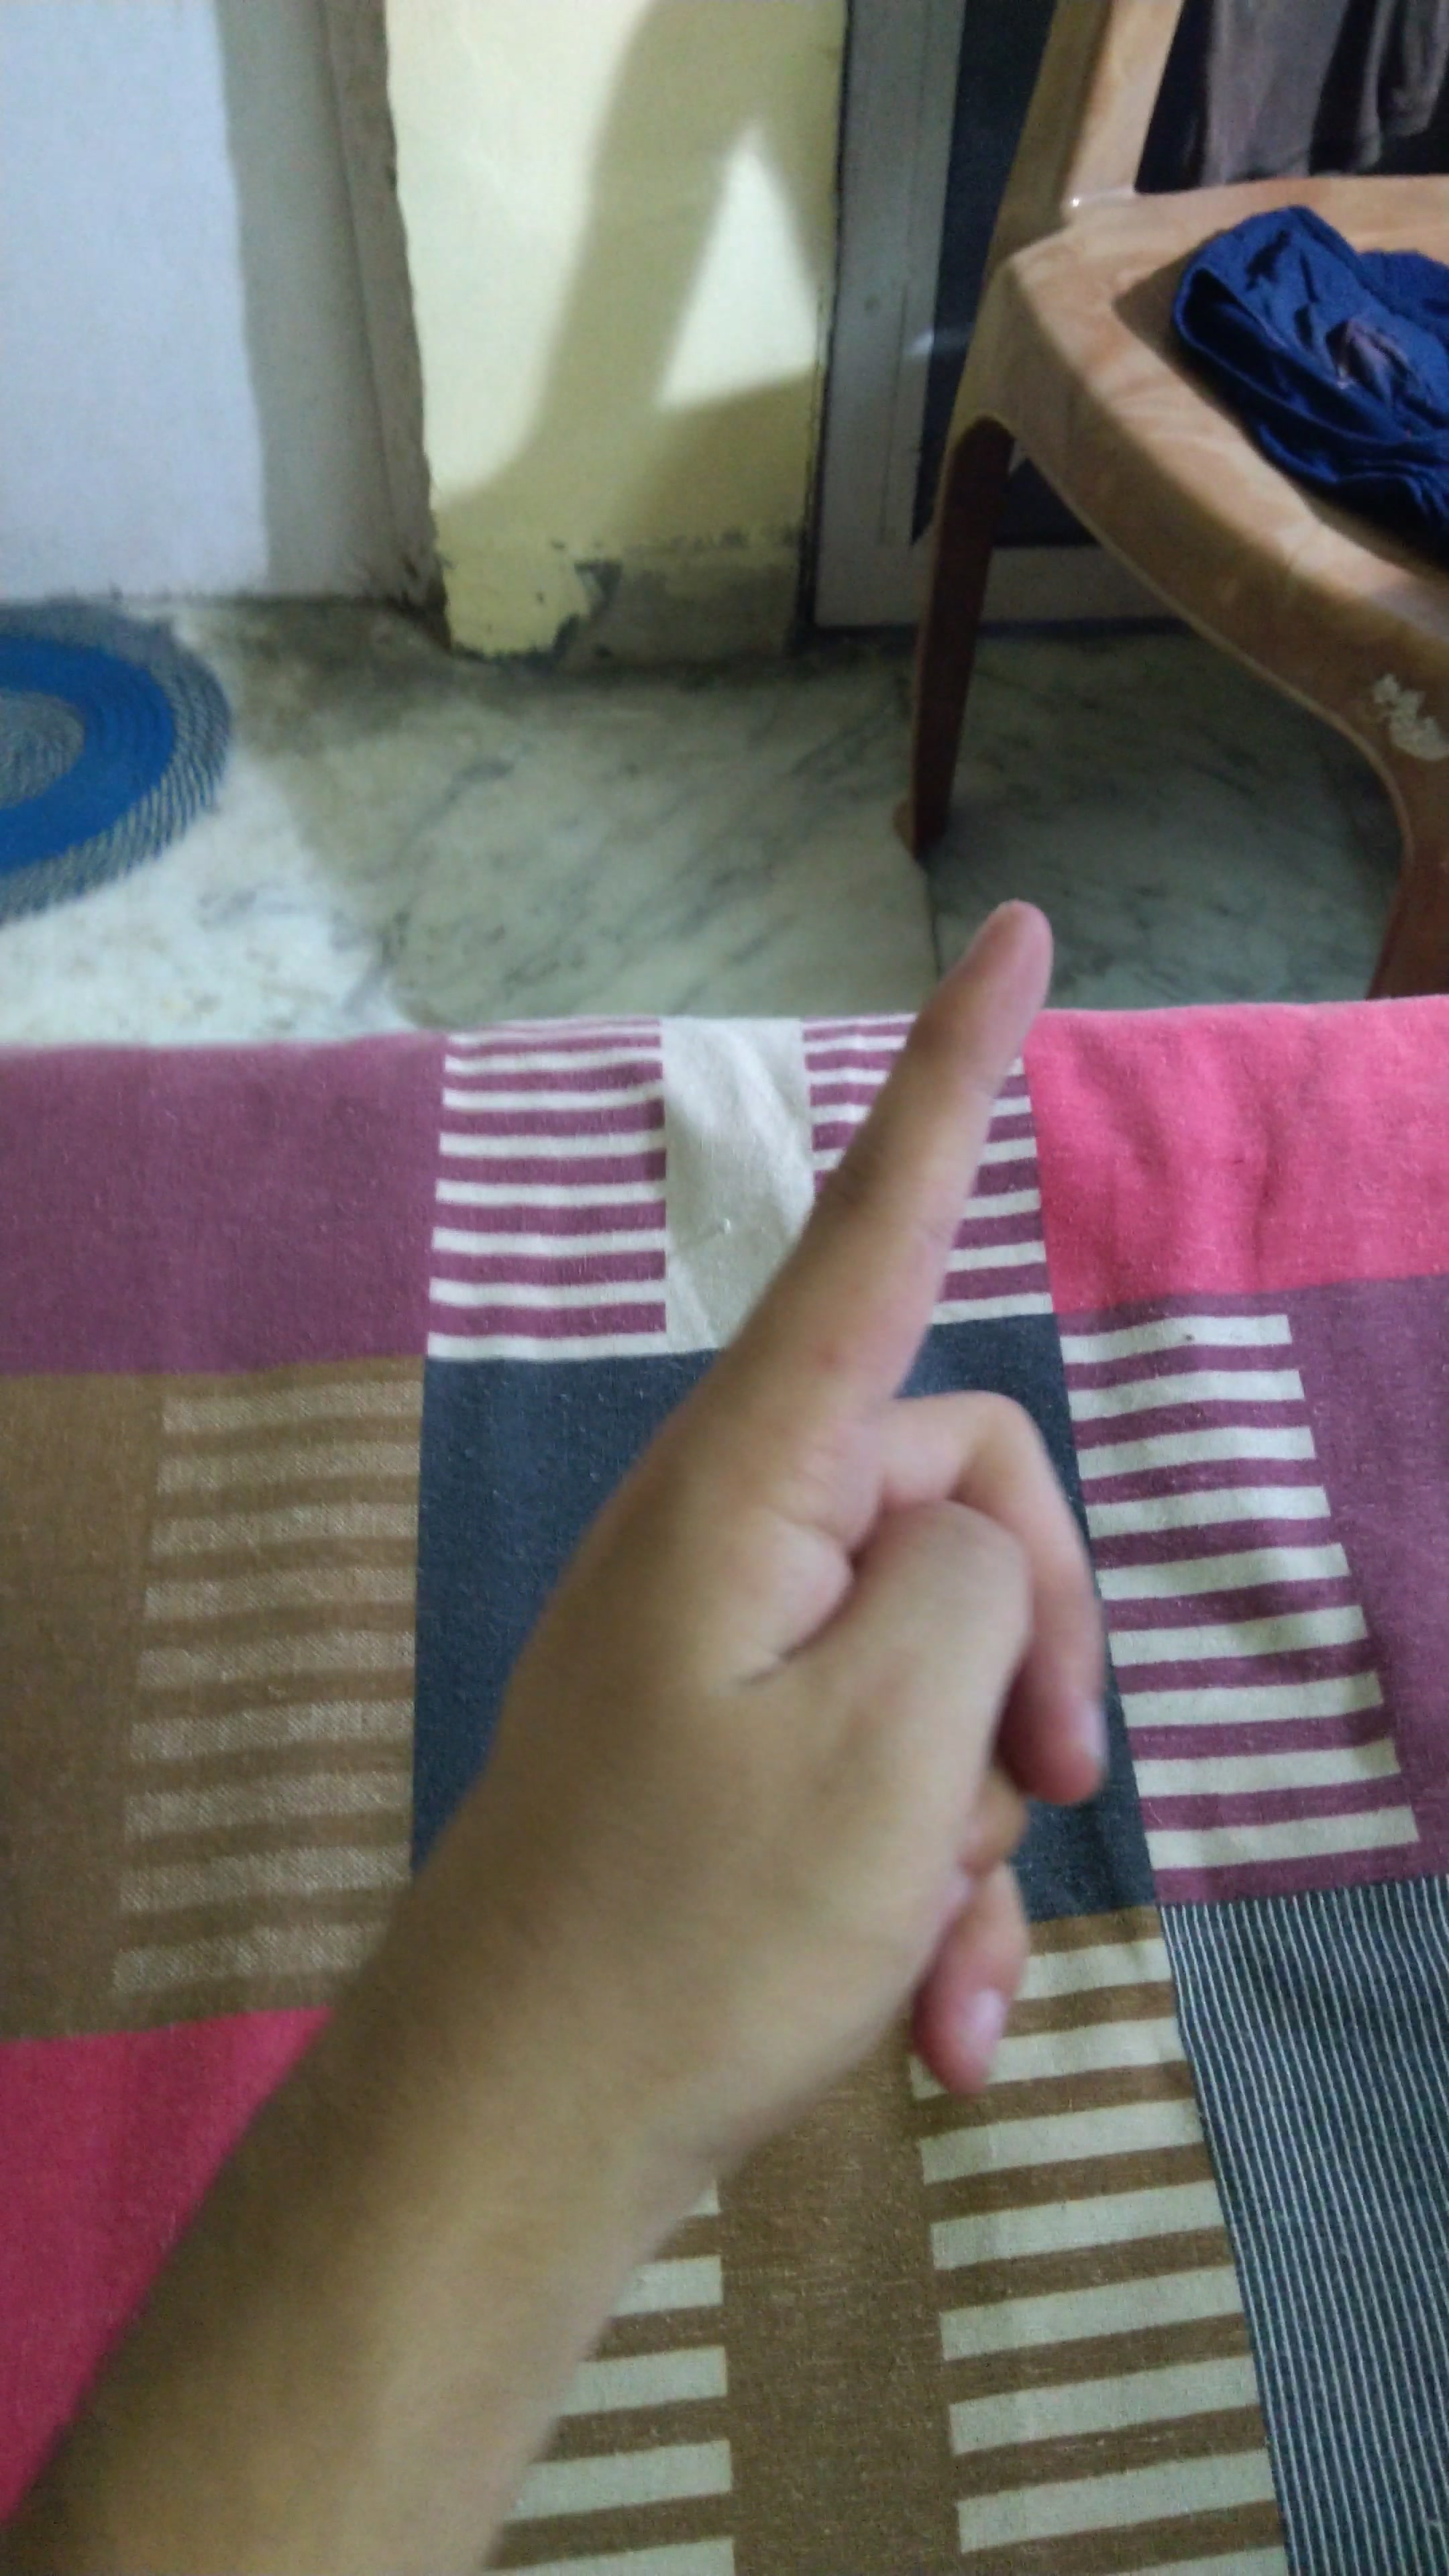hand: (329, 865, 1208, 2224)
